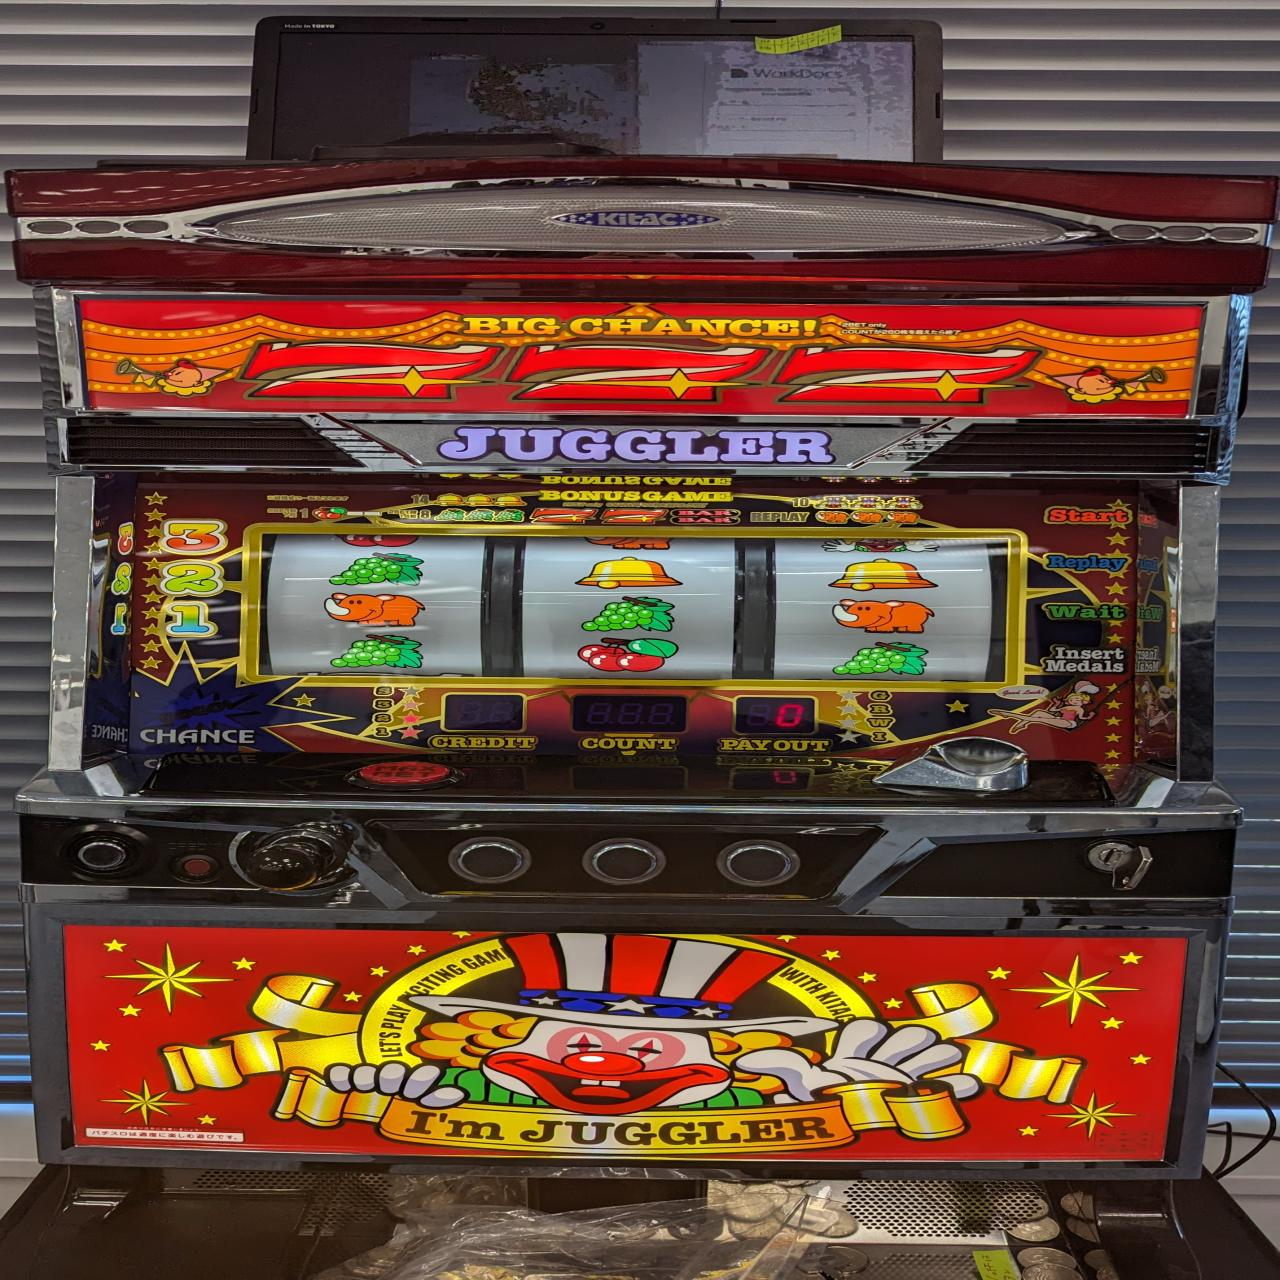Display: (256, 527, 1014, 682)
bell: (825, 556, 945, 594), (571, 554, 685, 591)
cherry: (561, 634, 681, 674)
grape: (319, 632, 437, 669), (570, 593, 681, 633), (327, 550, 428, 590), (830, 640, 933, 678)
rhino: (312, 592, 431, 629), (826, 598, 940, 635)
